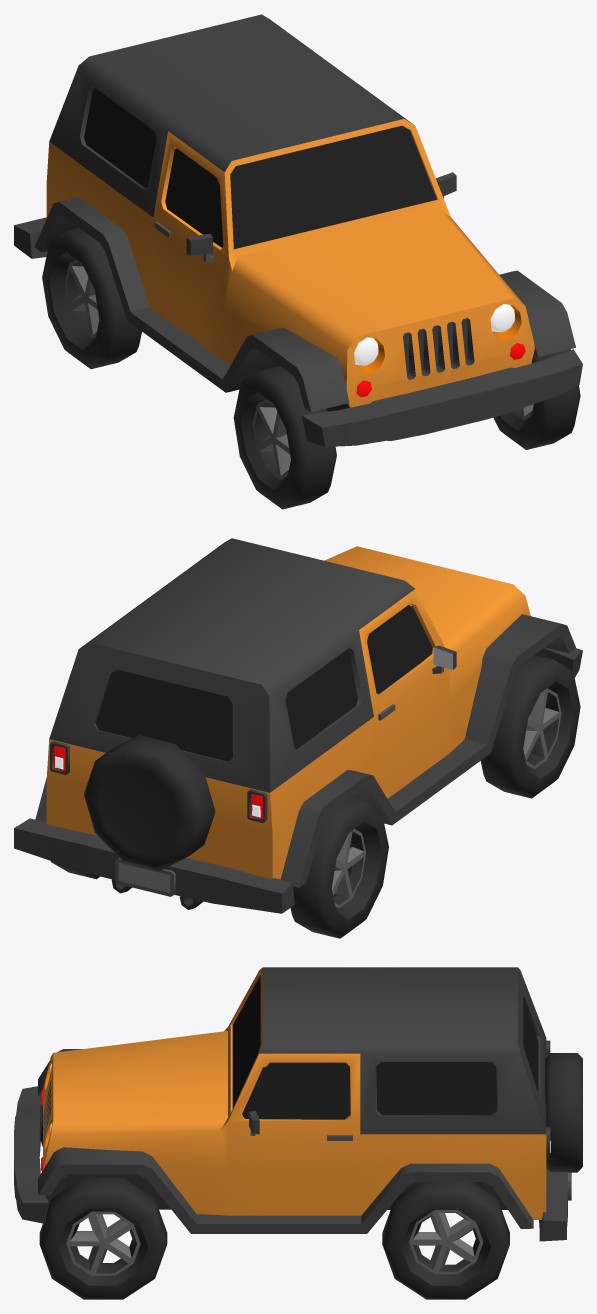
File: offroader.glb
3 views of the same model, one above another, from view 1: azimuth 30°, elevation 25°; view 2: azimuth 150°, elevation 25°; view 3: azimuth 270°, elevation 25° (orthographic). The views are drawn at different scales.
Visible parts, largest first — view 1: jeep, wheels.016, wheels.043, wheels.042; view 2: jeep, wheels.016, wheels.043; view 3: jeep, wheels.042, wheels.044.
Boxes of the visible parts, <box> form: jeep: <box>14,14,582,446</box>; wheels.016: <box>233,366,336,509</box>; wheels.043: <box>42,228,141,369</box>; wheels.042: <box>493,349,580,449</box>; jeep: <box>14,538,582,913</box>; wheels.016: <box>480,655,580,798</box>; wheels.043: <box>290,797,388,938</box>; jeep: <box>14,967,582,1241</box>; wheels.042: <box>39,1177,167,1299</box>; wheels.044: <box>382,1182,509,1299</box>.
Bounding box in the file's own units: 2.28 × 2.03 × 4.45.
4 materials, 4 textured.
